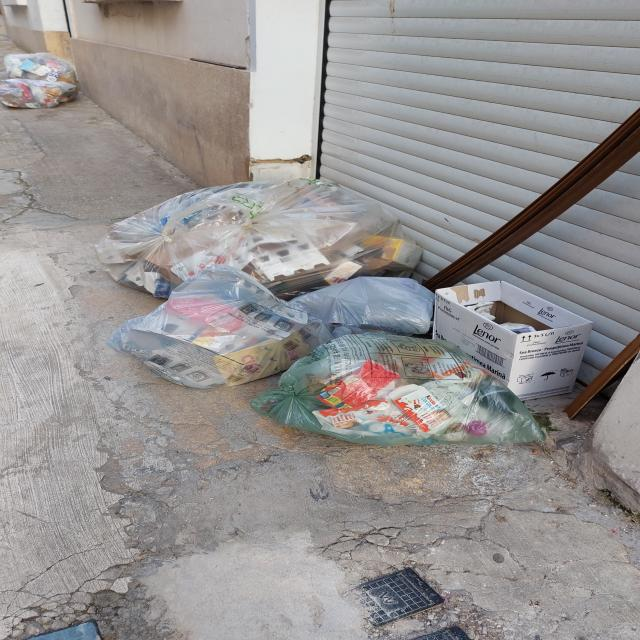Organic Waste -White Bag-: (114, 183, 420, 290), (126, 278, 313, 389), (294, 278, 442, 339), (1, 52, 83, 115)
Other: (428, 280, 595, 403)
Recycled Waste -Grey or Green Bag-: (267, 336, 549, 448)
